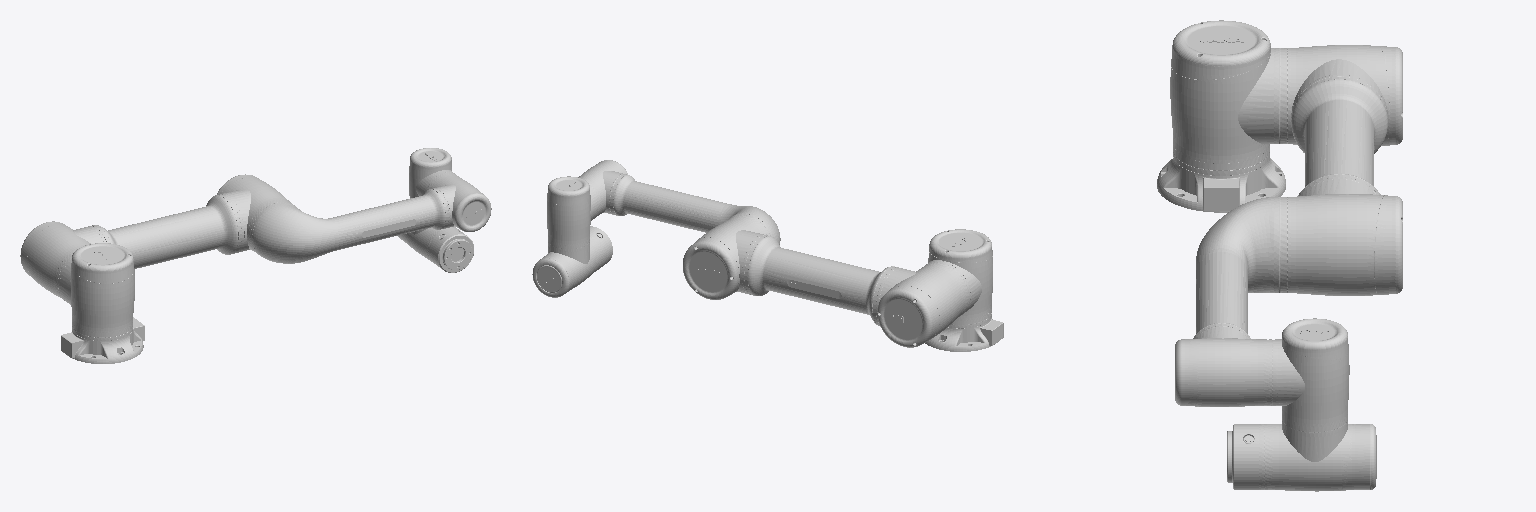
robot.urdf — jaka_zu5:
<?xml version="1.0" encoding="utf-8"?>
<!-- This URDF was automatically created by SolidWorks to URDF Exporter! Originally created by [author] ([email redacted]) 
     Commit Version: 1.5.1-0-g916b5db  Build Version: 1.5.7152.31018
     For more information, please see http://wiki.ros.org/sw_urdf_exporter -->
<robot
  name="jaka_zu5">

  <!-- LINK -->
  <link name="world" />
	
  <link
    name="Link_0">
    <inertial>
      <origin
        xyz="0.00096371 8.8222E-08 0.019555"
        rpy="0 0 0" />
      <mass
        value="4.0392" />
      <inertia
        ixx="0.0048763"
        ixy="-1.8056E-07"
        ixz="2.5196E-05"
        iyy="0.0068003"
        iyz="-1.7678E-09"
        izz="0.010618" />
    </inertial>
    <visual>
      <origin
        xyz="0 0 0"
        rpy="0 0 0" />
      <geometry>
        <mesh
          filename="package://jaka_description/meshes/jaka_zu5_meshes/Link_0.STL" />
      </geometry>
      <material
        name="">
        <color
          rgba="0.84706 0.84706 0.84706 1" />
      </material>
    </visual>
    <collision>
      <origin
        xyz="0 0 0"
        rpy="0 0 0" />
      <geometry>
        <mesh
          filename="package://jaka_description/meshes/jaka_zu5_meshes/Link_0.STL" />
      </geometry>
    </collision>
  </link>
  <link
    name="Link_1">
    <inertial>
      <origin
        xyz="-2.5186E-07 0.0033226 -0.001509"
        rpy="0 0 0" />
      <mass
        value="15.135" />
      <inertia
        ixx="0.044302"
        ixy="1.5349E-07"
        ixz="-6.1966E-07"
        iyy="0.043091"
        iyz="1.4326E-05"
        izz="0.030523" />
    </inertial>
    <visual>
      <origin
        xyz="0 0 0"
        rpy="0 0 0" />
      <geometry>
        <mesh
          filename="package://jaka_description/meshes/jaka_zu5_meshes/Link_1.STL" />
      </geometry>
      <material
        name="">
        <color
          rgba="0.84706 0.84706 0.84706 1" />
      </material>
    </visual>
    <collision>
      <origin
        xyz="0 0 0"
        rpy="0 0 0" />
      <geometry>
        <mesh
          filename="package://jaka_description/meshes/jaka_zu5_meshes/Link_1.STL" />
      </geometry>
    </collision>
  </link>
  
  <link
    name="Link_2">
    <inertial>
      <origin
        xyz="0.215 6.4325E-09 -0.14315"
        rpy="0 0 0" />
      <mass
        value="45.847" />
      <inertia
        ixx="0.10377"
        ixy="-1.3562E-06"
        ixz="2.544E-07"
        iyy="1.5964"
        iyz="2.1509E-08"
        izz="1.5689" />
    </inertial>
    <visual>
      <origin
        xyz="0 0 0"
        rpy="0 0 0" />
      <geometry>
        <mesh
          filename="package://jaka_description/meshes/jaka_zu5_meshes/Link_2.STL" />
      </geometry>
      <material
        name="">
        <color
          rgba="0.84706 0.84706 0.84706 1" />
      </material>
    </visual>
    <collision>
      <origin
        xyz="0 0 0"
        rpy="0 0 0" />
      <geometry>
        <mesh
          filename="package://jaka_description/meshes/jaka_zu5_meshes/Link_2.STL" />
      </geometry>
    </collision>
  </link>
  
  <link
    name="Link_3">
    <inertial>
      <origin
        xyz="0.19087 -1.1862E-05 -0.010587"
        rpy="0 0 0" />
      <mass
        value="18.069" />
      <inertia
        ixx="0.022066"
        ixy="-3.4554E-06"
        ixz="-0.022609"
        iyy="0.41632"
        iyz="1.1508E-08"
        izz="0.41071" />
    </inertial>
    <visual>
      <origin
        xyz="0 0 0"
        rpy="0 0 0" />
      <geometry>
        <mesh
          filename="package://jaka_description/meshes/jaka_zu5_meshes/Link_3.STL" />
      </geometry>
      <material
        name="">
        <color
          rgba="0.84706 0.84706 0.84706 1" />
      </material>
    </visual>
    <collision>
      <origin
        xyz="0 0 0"
        rpy="0 0 0" />
      <geometry>
        <mesh
          filename="package://jaka_description/meshes/jaka_zu5_meshes/Link_3.STL" />
      </geometry>
    </collision>
  </link>
  
  <link
    name="Link_4">
    <inertial>
      <origin
        xyz="-2.1345E-06 -0.0058004 0.0026717"
        rpy="0 0 0" />
      <mass
        value="5.5525" />
      <inertia
        ixx="0.0092564"
        ixy="1.1341E-07"
        ixz="-1.2578E-08"
        iyy="0.0052251"
        iyz="-8.3499E-05"
        izz="0.0089683" />
    </inertial>
    <visual>
      <origin
        xyz="0 0 0"
        rpy="0 0 0" />
      <geometry>
        <mesh
          filename="package://jaka_description/meshes/jaka_zu5_meshes/Link_4.STL" />
      </geometry>
      <material
        name="">
        <color
          rgba="0.84706 0.84706 0.84706 1" />
      </material>
    </visual>
    <collision>
      <origin
        xyz="0 0 0"
        rpy="0 0 0" />
      <geometry>
        <mesh
          filename="package://jaka_description/meshes/jaka_zu5_meshes/Link_4.STL" />
      </geometry>
    </collision>
  </link>
  
  <link
    name="Link_5">
    <inertial>
      <origin
        xyz="-2.0304E-06 -0.0028889 -0.0023424"
        rpy="0 0 0" />
      <mass
        value="6.3339" />
      <inertia
        ixx="0.012993"
        ixy="-1.0764E-07"
        ixz="5.8559E-09"
        iyy="0.0058454"
        iyz="4.5426E-05"
        izz="0.0127" />
    </inertial>
    <visual>
      <origin
        xyz="0 0 0"
        rpy="0 0 0" />
      <geometry>
        <mesh
          filename="package://jaka_description/meshes/jaka_zu5_meshes/Link_5.STL" />
      </geometry>
      <material
        name="">
        <color
          rgba="0.84706 0.84706 0.84706 1" />
      </material>
    </visual>
    <collision>
      <origin
        xyz="0 0 0"
        rpy="0 0 0" />
      <geometry>
        <mesh
          filename="package://jaka_description/meshes/jaka_zu5_meshes/Link_5.STL" />
      </geometry>
    </collision>
  </link>
  
  <link
    name="Link_6">
    <inertial>
      <origin
        xyz="2.7652E-05 -1.3485E-05 -0.021245"
        rpy="0 0 0" />
      <mass
        value="1.4169" />
      <inertia
        ixx="0.00071853"
        ixy="-6.9778E-07"
        ixz="-6.378E-07"
        iyy="0.00072375"
        iyz="8.3072E-07"
        izz="0.0011337" />
    </inertial>
    <visual>
      <origin
        xyz="0 0 0"
        rpy="0 0 0" />
      <geometry>
        <mesh
          filename="package://jaka_description/meshes/jaka_zu5_meshes/Link_6.STL" />
      </geometry>
      <material
        name="">
        <color
          rgba="0.84706 0.84706 0.84706 1" />
      </material>
    </visual>
    <collision>
      <origin
        xyz="0 0 0"
        rpy="0 0 0" />
      <geometry>
        <mesh
          filename="package://jaka_description/meshes/jaka_zu5_meshes/Link_6.STL" />
      </geometry>
    </collision>
  </link>
  
  <!-- JOINT -->
  <joint name="fixed" type="fixed">
     <parent link="world"/>
     <child link="Link_0"/>
  </joint>
  
  <joint
    name="joint_1"
    type="revolute">
    <origin
      xyz="0 0 0.12015"
      rpy="0 0 0" />
    <parent
      link="Link_0" />
    <child
      link="Link_1" />
    <axis
      xyz="0 0 1" />
    <limit
      lower="-6.28"
      upper="6.28"
      effort="2000"
      velocity="1.57" />
  </joint>
  
  <joint
    name="joint_2"
    type="revolute">
    <origin
      xyz="0 0 0"
      rpy="1.5708 0 0" />
    <parent
      link="Link_1" />
    <child
      link="Link_2" />
    <axis
      xyz="0 0 1" />
    <limit
      lower="-1.48"
      upper="4.62"
      effort="5000"
      velocity="1.57" />
  </joint>
  
  <joint
    name="joint_3"
    type="revolute">
    <origin
      xyz="0.43 0 0"
      rpy="0 0 0" />
    <parent
      link="Link_2" />
    <child
      link="Link_3" />
    <axis
      xyz="0 0 1" />
    <limit
      lower="-3.05"
      upper="3.05"
      effort="5000"
      velocity="1.57" />
  </joint>
  
  <joint
    name="joint_4"
    type="revolute">
    <origin
      xyz="0.3685 -1.185E-05 -0.114"
      rpy="0 0 0" />
    <parent
      link="Link_3" />
    <child
      link="Link_4" />
    <axis
      xyz="0 0 1" />
    <limit
      lower="-1.48"
      upper="4.62"
      effort="2000"
      velocity="1.57" />
  </joint>
  
  <joint
    name="joint_5"
    type="revolute">
    <origin
      xyz="0 -0.1135 0"
      rpy="1.5708 0 0" />
    <parent
      link="Link_4" />
    <child
      link="Link_5" />
    <axis
      xyz="0 0 1" />
    <limit
      lower="-6.28"
      upper="6.28"
      effort="3000"
      velocity="1.57" />
  </joint>
  
  <joint
    name="joint_6"
    type="revolute">
    <origin
      xyz="0 0.107 0"
      rpy="-1.5708 0 0" />
    <parent
      link="Link_5" />
    <child
      link="Link_6" />
    <axis
      xyz="0 0 1" />
    <limit
      lower="-6.28"
      upper="6.28"
      effort="1000"
      velocity="1.57" />
  </joint>
  
  <transmission name="trans_joint_1">
        <type>transmission_interface/SimpleTransmission</type>
        <joint name="joint_1">
            <hardwareInterface>hardware_interface/PositionJointInterface</hardwareInterface>
        </joint>
        <actuator name="joint_1_motor">
            <hardwareInterface>hardware_interface/PositionJointInterface</hardwareInterface>
            <mechanicalReduction>1</mechanicalReduction>
        </actuator>
    </transmission>
    <transmission name="trans_joint_2">
        <type>transmission_interface/SimpleTransmission</type>
        <joint name="joint_2">
            <hardwareInterface>hardware_interface/PositionJointInterface</hardwareInterface>
        </joint>
        <actuator name="joint_2_motor">
            <hardwareInterface>hardware_interface/PositionJointInterface</hardwareInterface>
            <mechanicalReduction>1</mechanicalReduction>
        </actuator>
    </transmission>
    <transmission name="trans_joint_3">
        <type>transmission_interface/SimpleTransmission</type>
        <joint name="joint_3">
            <hardwareInterface>hardware_interface/PositionJointInterface</hardwareInterface>
        </joint>
        <actuator name="joint_3_motor">
            <hardwareInterface>hardware_interface/PositionJointInterface</hardwareInterface>
            <mechanicalReduction>1</mechanicalReduction>
        </actuator>
    </transmission>
    <transmission name="trans_joint_4">
        <type>transmission_interface/SimpleTransmission</type>
        <joint name="joint_4">
            <hardwareInterface>hardware_interface/PositionJointInterface</hardwareInterface>
        </joint>
        <actuator name="joint_4_motor">
            <hardwareInterface>hardware_interface/PositionJointInterface</hardwareInterface>
            <mechanicalReduction>1</mechanicalReduction>
        </actuator>
    </transmission>
    <transmission name="trans_joint_5">
        <type>transmission_interface/SimpleTransmission</type>
        <joint name="joint_5">
            <hardwareInterface>hardware_interface/PositionJointInterface</hardwareInterface>
        </joint>
        <actuator name="joint_5_motor">
            <hardwareInterface>hardware_interface/PositionJointInterface</hardwareInterface>
            <mechanicalReduction>1</mechanicalReduction>
        </actuator>
    </transmission>
    <transmission name="trans_joint_6">
        <type>transmission_interface/SimpleTransmission</type>
        <joint name="joint_6">
            <hardwareInterface>hardware_interface/PositionJointInterface</hardwareInterface>
        </joint>
        <actuator name="joint_6_motor">
            <hardwareInterface>hardware_interface/PositionJointInterface</hardwareInterface>
            <mechanicalReduction>1</mechanicalReduction>
        </actuator>
    </transmission>
    <gazebo>
        <plugin name="gazebo_ros_control" filename="libgazebo_ros_control.so">
            <robotNamespace>/</robotNamespace>
        </plugin>
    </gazebo>
</robot>

--- Render facts (derived) ---
Views: 3 orthographic renders of the robot side by side, from view 1: azimuth 30°, elevation 25°; view 2: azimuth 150°, elevation 25°; view 3: azimuth 270°, elevation 25°.
Model jaka_zu5 with 8 links and 7 joints (6 revolute, 1 fixed), rooted at world, posed every joint at zero.
Links seen in each view (by area): view 1: Link_2, Link_3, Link_1, Link_0, Link_6, Link_4, Link_5; view 2: Link_2, Link_3, Link_1, Link_4, Link_5, Link_0; view 3: Link_2, Link_3, Link_1, Link_4, Link_5, Link_0, Link_6.
Boxes of the visible links, left/top/right/bottom form: Link_2: left=20, top=174, right=294, bottom=300; Link_3: left=252, top=171, right=491, bottom=263; Link_1: left=60, top=243, right=134, bottom=340; Link_0: left=61, top=317, right=144, bottom=363; Link_6: left=430, top=228, right=473, bottom=272; Link_4: left=409, top=148, right=451, bottom=197; Link_5: left=398, top=226, right=458, bottom=262; Link_2: left=683, top=214, right=970, bottom=347; Link_3: left=578, top=160, right=780, bottom=244; Link_1: left=928, top=229, right=992, bottom=328; Link_4: left=547, top=176, right=598, bottom=251; Link_5: left=532, top=234, right=604, bottom=297; Link_0: left=925, top=317, right=1003, bottom=351; Link_2: left=1274, top=45, right=1402, bottom=295; Link_3: left=1175, top=197, right=1277, bottom=406; Link_1: left=1170, top=20, right=1273, bottom=175; Link_4: left=1278, top=318, right=1349, bottom=436; Link_5: left=1259, top=424, right=1376, bottom=491; Link_0: left=1157, top=157, right=1285, bottom=212; Link_6: left=1227, top=424, right=1258, bottom=489.
Size in the robot's own frame: 0.9227 by 0.3007 by 0.2332 metres.
Meshes: 7 distinct files referenced, 7 mesh visuals loaded (7 binary STL).
